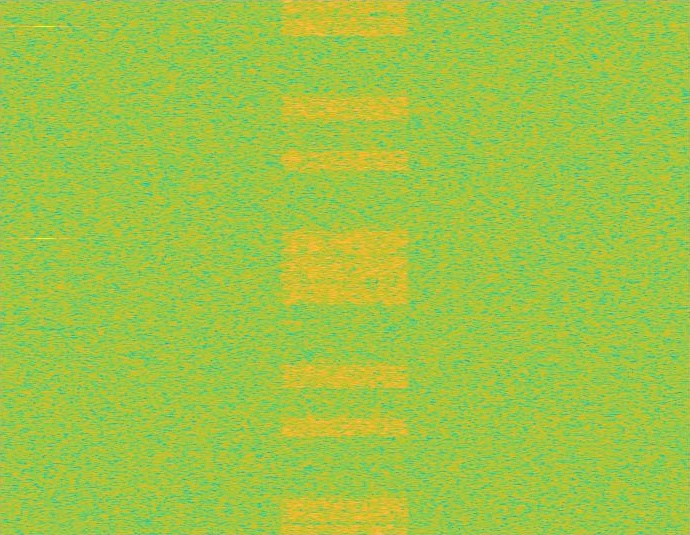LTE: (276, 0, 414, 534)
Radar: (38, 0, 51, 534)
